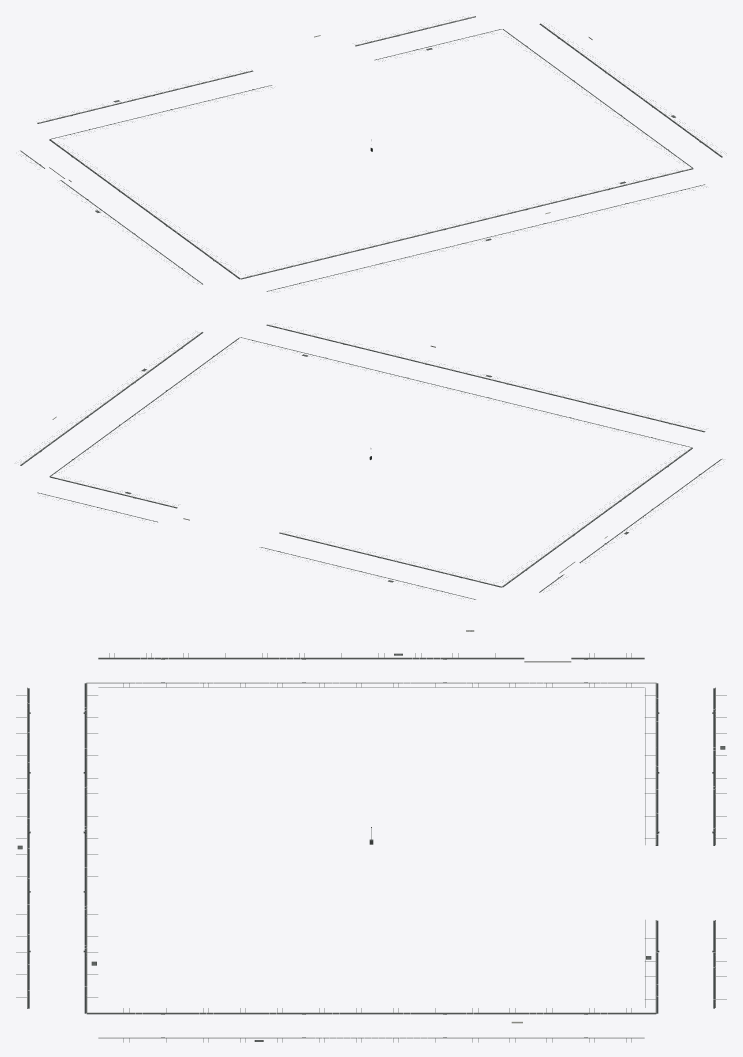
The model's file is exterior-street-fabric.glb.
The picture shows the model from 3 angles, top to bottom: view 1: azimuth 30°, elevation 25°; view 2: azimuth 150°, elevation 25°; view 3: azimuth 270°, elevation 25°; orthographic projection. The views are drawn at different scales.
Parts seen in each view (by area): view 1: exterior_street_services, exterior_street_kerbs; view 2: exterior_street_services, exterior_street_kerbs; view 3: exterior_street_services, exterior_street_kerbs, exterior_street_paving_joints.
Part boxes in pixels (x1,y1,x2,y2): exterior_street_services: (20, 16, 722, 291); exterior_street_kerbs: (20, 16, 722, 291); exterior_street_services: (20, 325, 721, 599); exterior_street_kerbs: (20, 324, 722, 599); exterior_street_services: (17, 653, 725, 1041); exterior_street_kerbs: (27, 657, 715, 1037); exterior_street_paving_joints: (16, 653, 726, 1042).
Size of the model in its own units: 158 by 4.21 by 122.
Materials: 14 (4 with a texture image).
